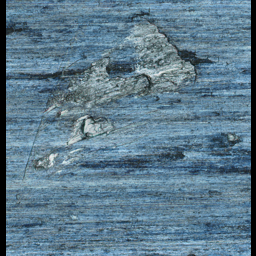d: (31, 9, 213, 176), (214, 131, 242, 149)
